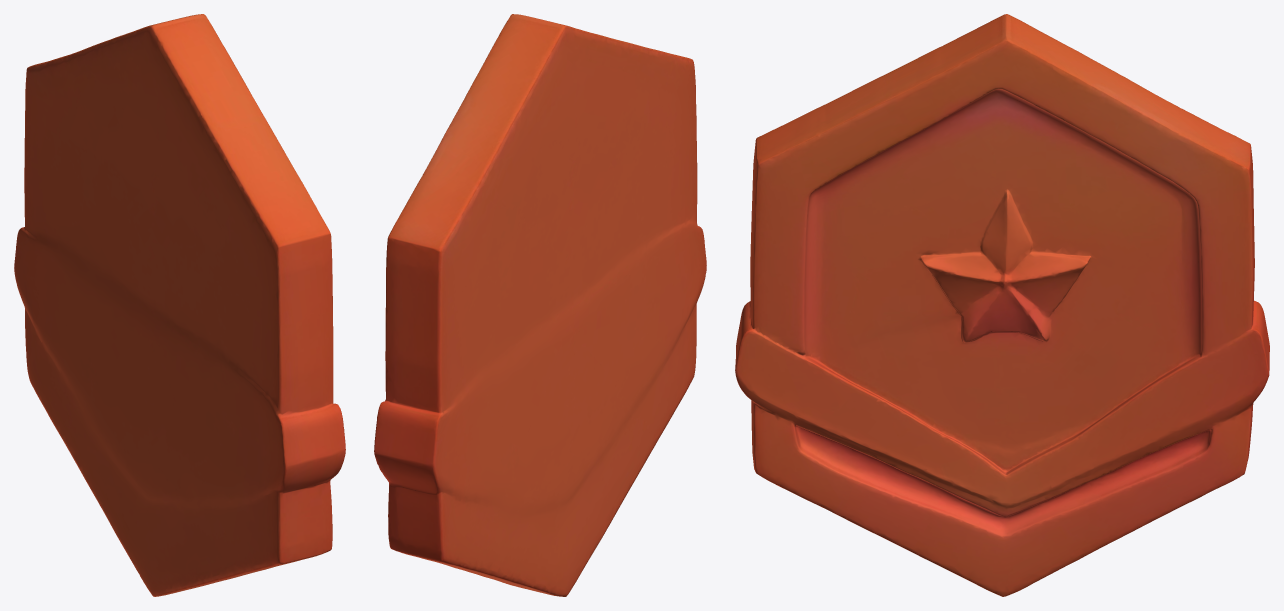
File: bronze-lE5yCxSn.glb
The picture shows the model from 3 angles, left to right: view 1: azimuth 30°, elevation 25°; view 2: azimuth 150°, elevation 25°; view 3: azimuth 270°, elevation 25°; orthographic projection. The views are drawn at different scales.
Parts seen in each view (by area): view 1: tripo_node_f3390e33-c80e-44f0-87f7-83e6b733a495; view 2: tripo_node_f3390e33-c80e-44f0-87f7-83e6b733a495; view 3: tripo_node_f3390e33-c80e-44f0-87f7-83e6b733a495.
Part boxes in pixels (x1=…): tripo_node_f3390e33-c80e-44f0-87f7-83e6b733a495: x1=14, y1=14, x2=345, y2=596; tripo_node_f3390e33-c80e-44f0-87f7-83e6b733a495: x1=374, y1=14, x2=706, y2=596; tripo_node_f3390e33-c80e-44f0-87f7-83e6b733a495: x1=735, y1=14, x2=1269, y2=596.
Bounding box in the file's own units: 0.1129 × 1 × 0.8662.
Materials: 1 (1 with a texture image).
